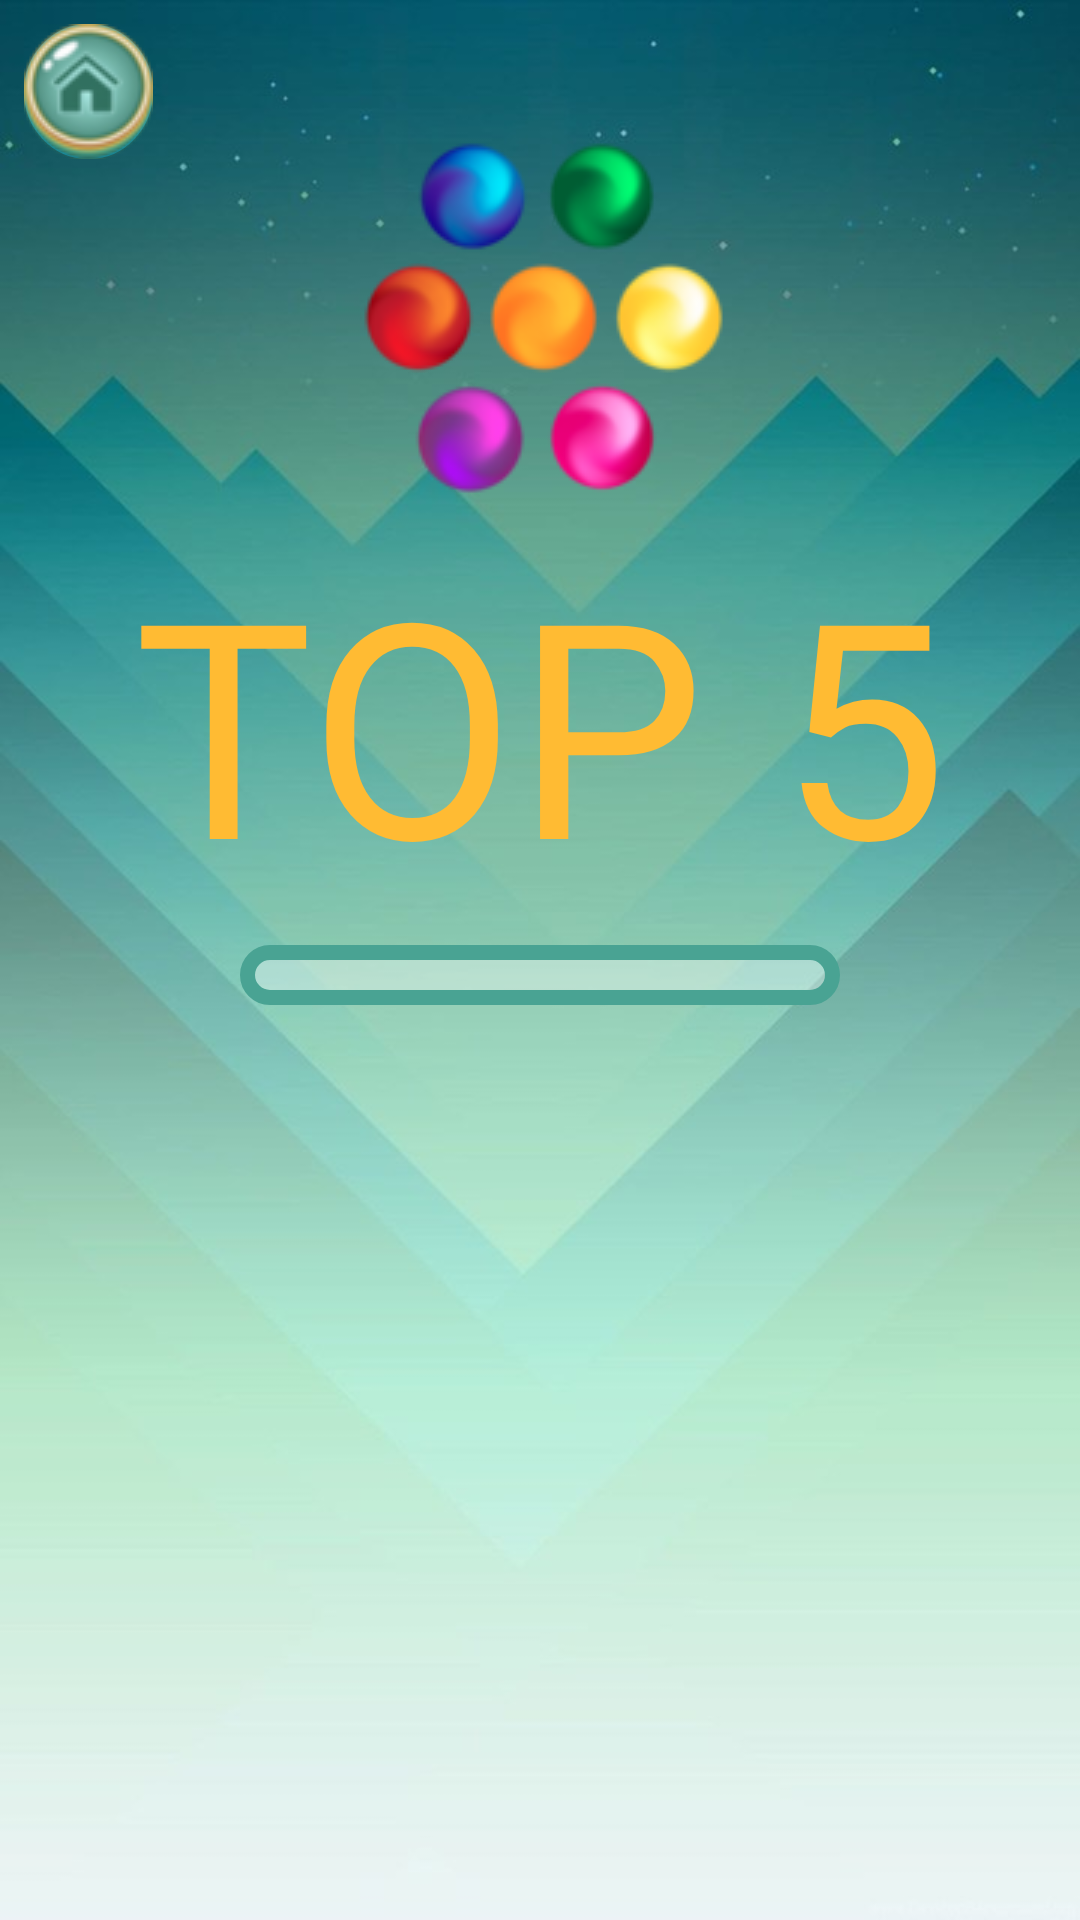

Icon click points for this 1080 × 1920 phone screenshot, format point (x, y):
home: point (88, 91)
